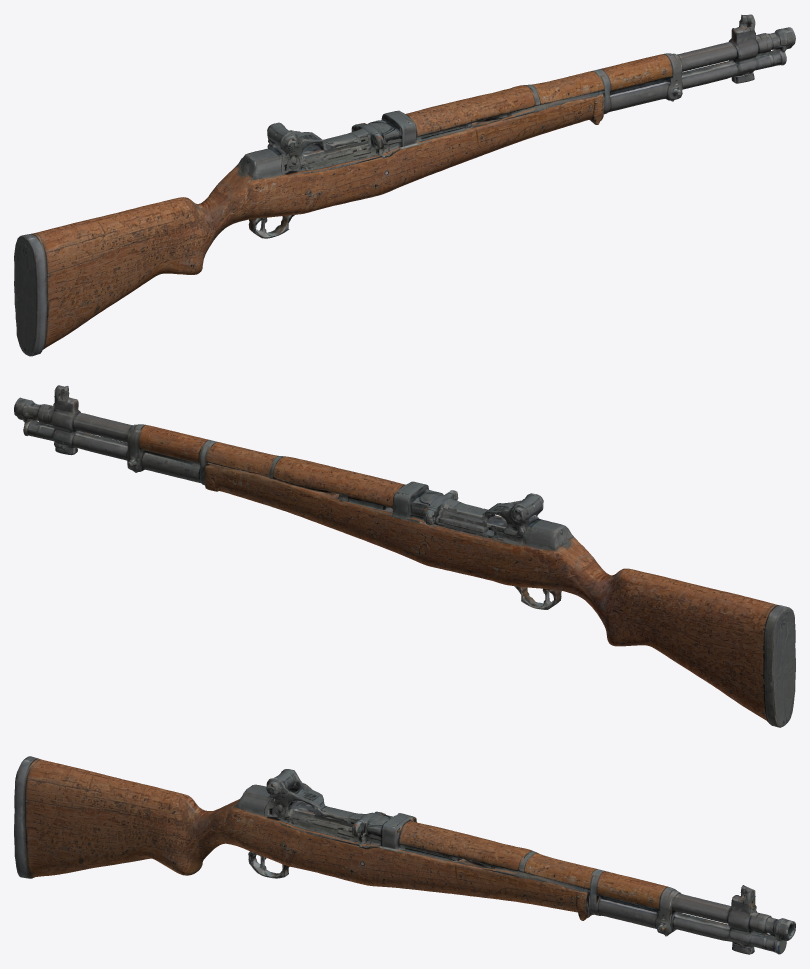
The model's file is M1Garand_varco.fbx.
The picture shows the model from 3 angles, top to bottom: view 1: azimuth 30°, elevation 25°; view 2: azimuth 150°, elevation 25°; view 3: azimuth 330°, elevation 25°; orthographic projection.
Parts seen in each view (by area): view 1: texture_mapping; view 2: texture_mapping; view 3: texture_mapping.
Boxes of the visible parts, x1,y1,x2,y2 form: texture_mapping: (14, 14, 795, 356); texture_mapping: (14, 385, 795, 727); texture_mapping: (14, 756, 795, 954).
Size of the model in its own units: 0.9993 by 0.0634 by 0.2059.
Materials: 1 (1 with a texture image).
